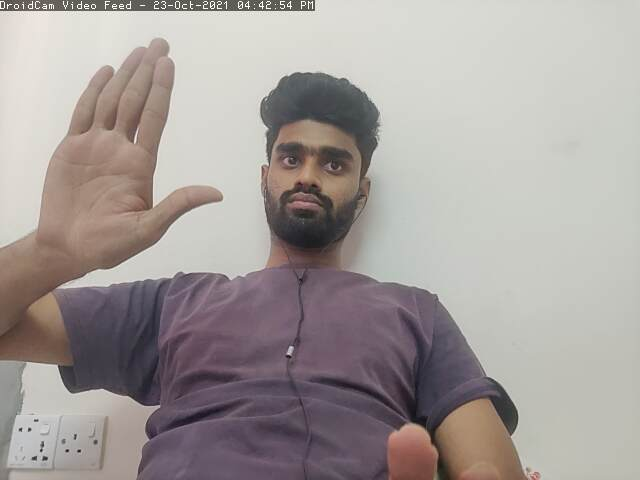Stop: (36, 36, 225, 272)
